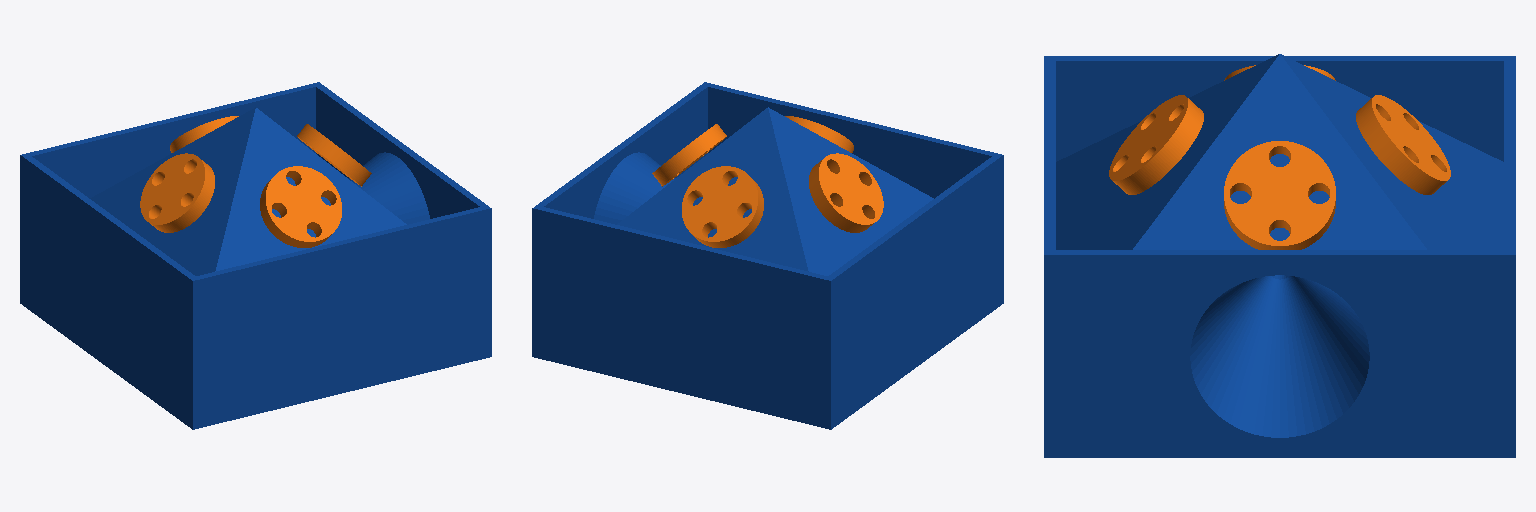
The robot description file, URDF, robot "spacecraft":
<?xml version="1.0" ?>
<robot name="spacecraft">

  <material name="industrial-blue">
    <color rgba="0.11372549019607843 0.34509803921568627 0.6549019607843137 1" />
  </material>

  <material name="arches-blue">
    <color rgba="0.0 0.6235294117647059 0.8313725490196079 1" />
  </material>

  <material name = "heritage-orange">
    <color rgba = "0.96078431 0.50980392 0.11764706 1" />
  </material>

  <link name="bus" concave="yes">
    <visual>
      <origin rpy="0 0 0" xyz="0 0 0"/>
      <geometry>
  			<mesh filename="spacecraft.stl" scale="1.0 1.0 1.0"/>
      </geometry>
      <material name = "industrial-blue"/>
    </visual>
    <collision concave="yes">
      <origin rpy="0 0 0" xyz="0 0 0"/>
      <geometry>
  			<mesh filename="spacecraft.stl" scale="1.0 1.0 1.0"/>
      </geometry>
    </collision>
    <inertial>
      <origin rpy="0 0 0" xyz="0 0 0"/>
      <mass value="6.0"/>
      <inertia ixx="10.0" ixy="0" ixz="0" iyy="10.0" iyz="0" izz="16.0"/>
    </inertial>
  </link>

  <link name="wheel_1" concave="yes">
    <visual>
      <origin rpy="0 0 0" xyz="0 0 0"/>
      <geometry>
  			<mesh filename="wheel.stl" scale="0.5 0.5 0.2"/>
      </geometry>
      <material name = "heritage-orange"/>
    </visual>
    <collision concave="yes">
      <origin rpy="0 0 0" xyz="0 0 0"/>
      <geometry>
  			<mesh filename="wheel.stl" scale="0.5 0.5 0.2"/>
      </geometry>
    </collision>
    <inertial>
      <origin rpy="0 0 0" xyz="0 0 0"/>
      <mass value="1.0"/>
      <inertia ixx="0.075" ixy="0" ixz="0" iyy="0.075" iyz="0" izz="0.125"/>
    </inertial>
  </link>

  <link name="wheel_2" concave="yes">
    <visual>
      <origin rpy="0 0 0" xyz="0 0 0"/>
      <geometry>
  			<mesh filename="wheel.stl" scale="0.5 0.5 0.2"/>
      </geometry>
      <material name = "heritage-orange"/>
    </visual>
    <collision concave="yes">
      <origin rpy="0 0 0" xyz="0 0 0"/>
      <geometry>
  			<mesh filename="wheel.stl" scale="0.5 0.5 0.2"/>
      </geometry>
    </collision>
    <inertial>
      <origin rpy="0 0 0" xyz="0 0 0"/>
      <mass value="1.0"/>
      <inertia ixx="0.075" ixy="0" ixz="0" iyy="0.075" iyz="0" izz="0.125"/>
    </inertial>
  </link>

  <link name="wheel_3" concave="yes">
    <visual>
      <origin rpy="0 0 0" xyz="0 0 0"/>
      <geometry>
  			<mesh filename="wheel.stl" scale="0.5 0.5 0.2"/>
      </geometry>
      <material name = "heritage-orange"/>
    </visual>
    <collision concave="yes">
      <origin rpy="0 0 0" xyz="0 0 0"/>
      <geometry>
  			<mesh filename="wheel.stl" scale="0.5 0.5 0.2"/>
      </geometry>
    </collision>
    <inertial>
      <origin rpy="0 0 0" xyz="0 0 0"/>
      <mass value="1.0"/>
      <inertia ixx="0.075" ixy="0" ixz="0" iyy="0.075" iyz="0" izz="0.125"/>
    </inertial>
  </link>

  <link name="wheel_4" concave="yes">
    <visual>
      <origin rpy="0 0 0" xyz="0 0 0"/>
      <geometry>
  			<mesh filename="wheel.stl" scale="0.5 0.5 0.2"/>
      </geometry>
      <material name = "heritage-orange"/>
    </visual>
    <collision concave="yes">
      <origin rpy="0 0 0" xyz="0 0 0"/>
      <geometry>
  			<mesh filename="wheel.stl" scale="0.5 0.5 0.2"/>
      </geometry>
    </collision>
    <inertial>
      <origin rpy="0 0 0" xyz="0 0 0"/>
      <mass value="1.0"/>
      <inertia ixx="0.075" ixy="0" ixz="0" iyy="0.075" iyz="0" izz="0.125"/>
    </inertial>
  </link>

  <joint name="bus_to_wheel_1" type="continuous">
		<parent link = "bus" />
		<child link = "wheel_1" />
		<origin xyz="1.1 0 1.1" rpy="0 0.7853981633974483 0"/>
		<axis xyz = "0 0 1" />
		<limit effort="1000" velocity="1000"/>
	</joint>

  <joint name="bus_to_wheel_2" type="continuous">
		<parent link = "bus" />
		<child link = "wheel_2" />
		<origin xyz="-1.1 0 1.1" rpy="0 -0.7853981633974483 0"/>
		<axis xyz = "0 0 1" />
		<limit effort="1000" velocity="1000"/>
	</joint>

  <joint name="bus_to_wheel_3" type="continuous">
		<parent link = "bus" />
		<child link = "wheel_3" />
		<origin xyz="0 1.1 1.1" rpy="0 0.7853981633974483 1.5707963267948966"/>
		<axis xyz = "0 0 1" />
		<limit effort="1000" velocity="1000"/>
	</joint>

  <joint name="bus_to_wheel_4" type="continuous">
		<parent link = "bus" />
		<child link = "wheel_4" />
		<origin xyz="0 -1.1 1.1" rpy="0 0.7853981633974483 -1.5707963267948966"/>
		<axis xyz = "0 0 1" />
		<limit effort="1000" velocity="1000"/>
	</joint>

</robot>

--- What the picture shows (computed from the rendered views, not written in the file) ---
3 views of the same robot in one strip: view 1: azimuth 30°, elevation 25°; view 2: azimuth 150°, elevation 25°; view 3: azimuth 270°, elevation 25° (orthographic).
Model spacecraft with 5 links and 4 joints (4 continuous), rooted at bus, posed all joints at 0.
Links seen in each view (by area): view 1: bus, wheel_4, wheel_2, wheel_1, wheel_3; view 2: bus, wheel_3, wheel_2, wheel_1, wheel_4; view 3: bus, wheel_1, wheel_3, wheel_4.
Boxes of the visible links, x1=… form: bus: x1=20, y1=82, x2=491, y2=429; wheel_4: x1=260, y1=166, x2=341, y2=247; wheel_2: x1=140, y1=153, x2=214, y2=232; wheel_1: x1=297, y1=124, x2=371, y2=186; wheel_3: x1=170, y1=116, x2=238, y2=152; bus: x1=532, y1=82, x2=1003, y2=429; wheel_3: x1=682, y1=166, x2=763, y2=247; wheel_2: x1=809, y1=153, x2=883, y2=232; wheel_1: x1=652, y1=124, x2=726, y2=186; wheel_4: x1=785, y1=116, x2=853, y2=152; bus: x1=1044, y1=54, x2=1515, y2=457; wheel_1: x1=1224, y1=141, x2=1335, y2=249; wheel_3: x1=1356, y1=95, x2=1450, y2=194; wheel_4: x1=1109, y1=95, x2=1203, y2=194.
Size in the robot's own frame: 4.2 by 4.2 by 3 metres.
5 mesh visuals loaded from 2 distinct referenced files (2 binary STL).